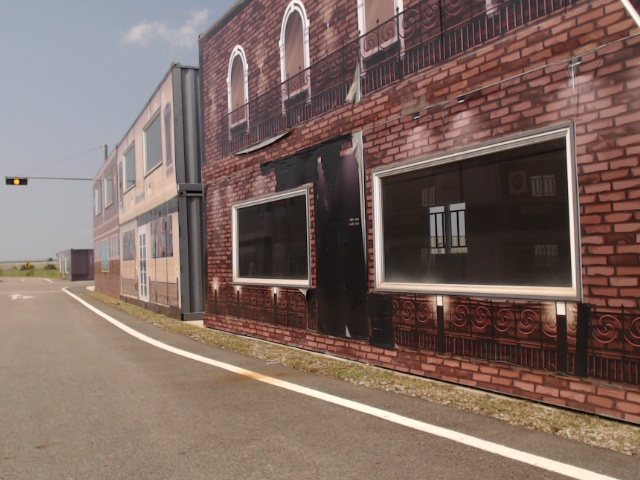orange_3: (4, 177, 29, 187)
